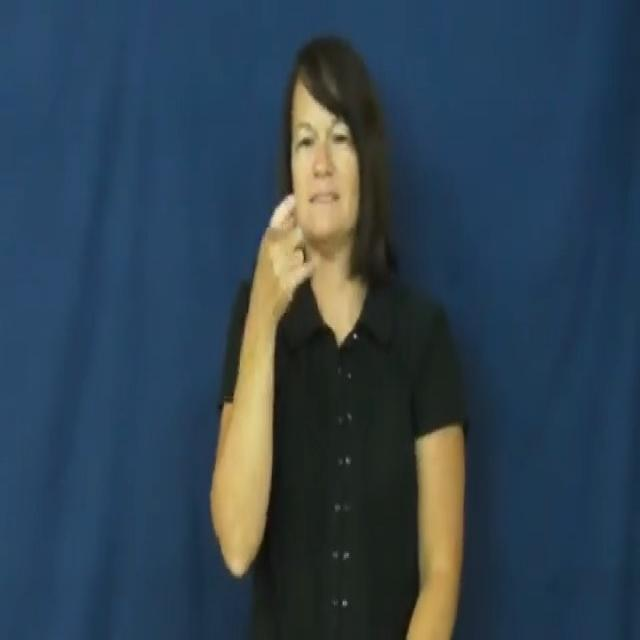hot: (236, 186, 320, 356)
